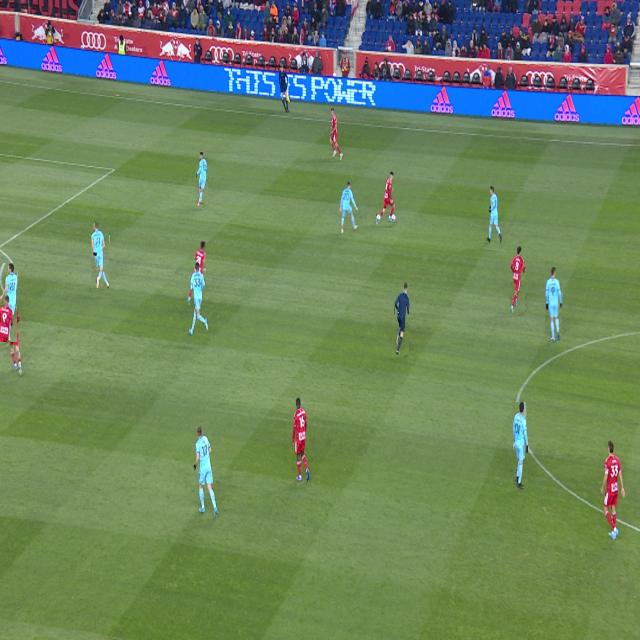football: (376, 214, 381, 222)
player: (601, 440, 625, 540), (194, 425, 218, 519), (4, 295, 22, 376), (189, 263, 209, 335), (292, 398, 309, 481), (0, 263, 17, 342), (513, 402, 528, 488), (187, 242, 206, 305), (546, 268, 562, 341), (92, 221, 109, 289), (376, 171, 396, 226), (339, 181, 358, 234), (511, 246, 525, 313), (487, 186, 502, 243), (330, 108, 343, 161), (196, 152, 208, 208)
referee: (395, 283, 409, 355)
